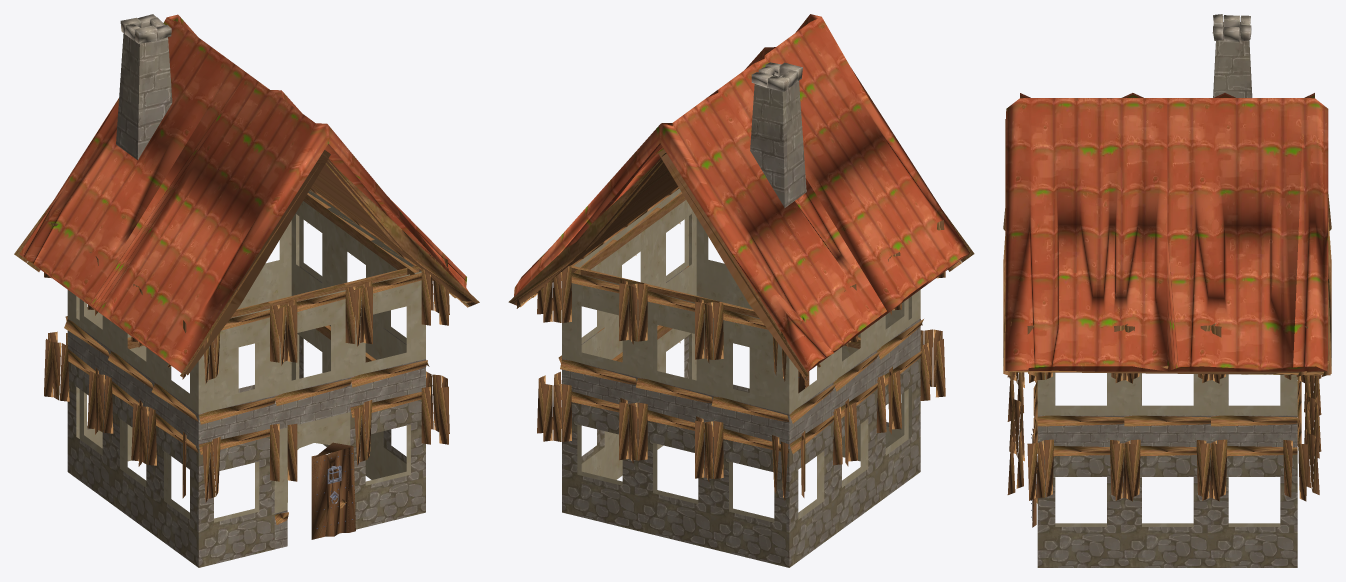
File: MerchantHouse.low.gltf
3 renders of one model, left to right at view 1: azimuth 30°, elevation 25°; view 2: azimuth 150°, elevation 25°; view 3: azimuth 270°, elevation 25°, orthographic.
Visible parts, largest first — view 1: Roof_RoundTiles_6x6, Wall_Plaster_Window_Wide_Flat (×10), Wall_UnevenBrick_Window_Wide_Flat (×9), WindowShutters_Wide_Flat_Open (×9), Prop_Chimney, Door_2_Round, Wall_Plaster_Door_Round; view 2: Roof_RoundTiles_6x6, Wall_Plaster_Window_Wide_Flat (×10), Wall_UnevenBrick_Window_Wide_Flat (×10), WindowShutters_Wide_Flat_Open (×10), Prop_Chimney; view 3: Roof_RoundTiles_6x6, Wall_UnevenBrick_Window_Wide_Flat (×3), Wall_Plaster_Window_Wide_Flat (×3), WindowShutters_Wide_Flat_Open (×7), Prop_Chimney.
Boxes of the visible parts, x1,y1,x2,y2 form: Roof_RoundTiles_6x6: [14, 14, 479, 376]; Wall_Plaster_Window_Wide_Flat (×10): [64, 188, 429, 448]; Wall_UnevenBrick_Window_Wide_Flat (×9): [67, 325, 425, 567]; WindowShutters_Wide_Flat_Open (×9): [44, 267, 449, 502]; Prop_Chimney: [116, 14, 172, 160]; Door_2_Round: [311, 442, 355, 539]; Wall_Plaster_Door_Round: [274, 412, 350, 549]; Roof_RoundTiles_6x6: [508, 14, 974, 376]; Wall_Plaster_Window_Wide_Flat (×10): [558, 187, 923, 448]; Wall_UnevenBrick_Window_Wide_Flat (×10): [561, 325, 921, 567]; WindowShutters_Wide_Flat_Open (×10): [543, 266, 945, 500]; Prop_Chimney: [750, 62, 806, 207]; Roof_RoundTiles_6x6: [1003, 93, 1331, 376]; Wall_UnevenBrick_Window_Wide_Flat (×3): [1037, 446, 1297, 567]; Wall_Plaster_Window_Wide_Flat (×3): [1037, 372, 1297, 447]; WindowShutters_Wide_Flat_Open (×7): [1007, 372, 1321, 501]; Prop_Chimney: [1212, 14, 1252, 97].
Size of the model in its own units: 8.25 by 11.68 by 7.59.
Materials: 7 (7 with a texture image).
